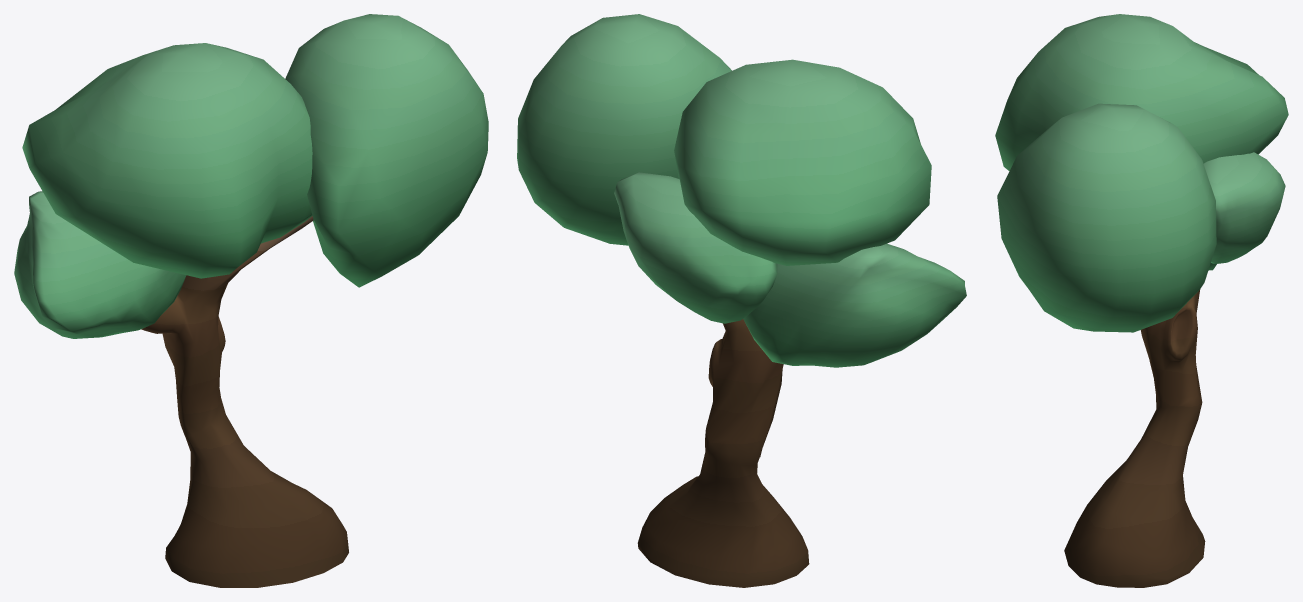
The model's file is SM_tree01.fbx.
3 renders of one model, left to right at view 1: azimuth 30°, elevation 25°; view 2: azimuth 150°, elevation 25°; view 3: azimuth 270°, elevation 25°, orthographic. The views are drawn at different scales.
Visible parts, largest first — view 1: SM_tree01; view 2: SM_tree01; view 3: SM_tree01.
Boxes of the visible parts, x1,y1,x2,y2 form: SM_tree01: [14, 14, 488, 587]; SM_tree01: [517, 14, 966, 587]; SM_tree01: [995, 14, 1288, 587].
Size of the model in its own units: 374 by 418 by 225.
